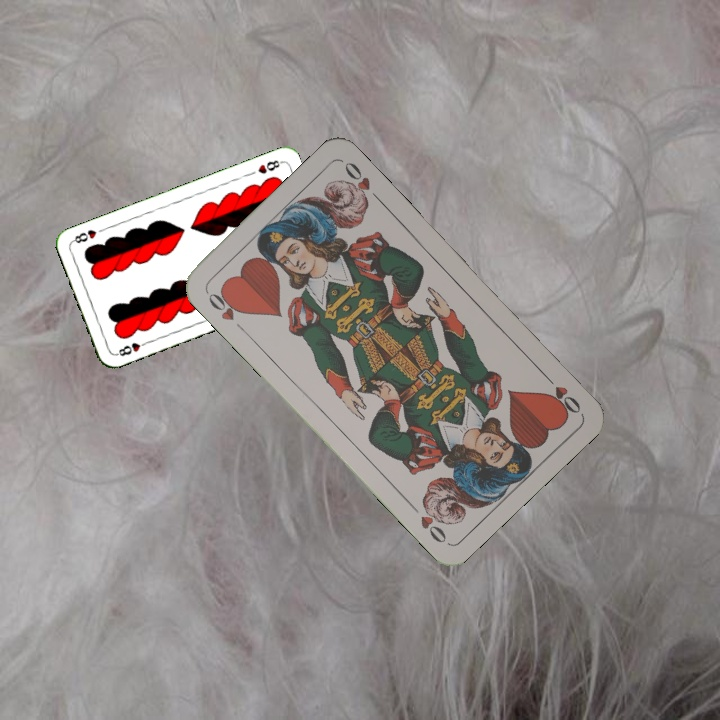H8: (112, 337, 151, 359), (254, 156, 284, 176)
HO: (538, 368, 584, 417), (203, 285, 248, 335)
